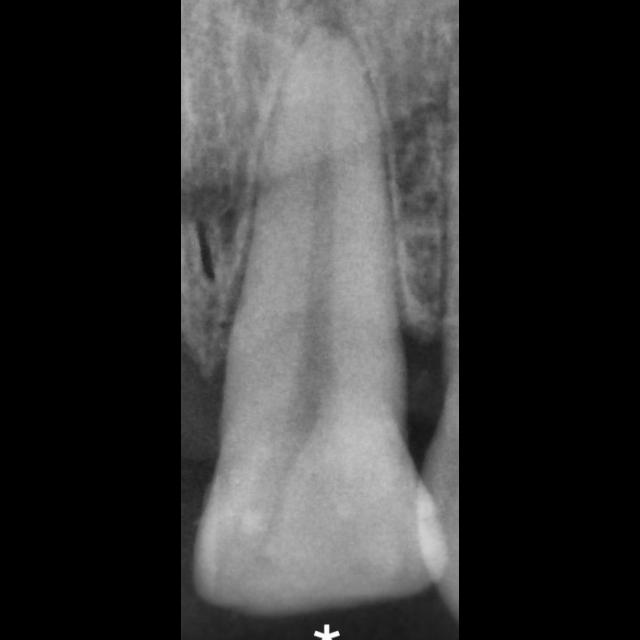tooth: (192, 22, 448, 619)
